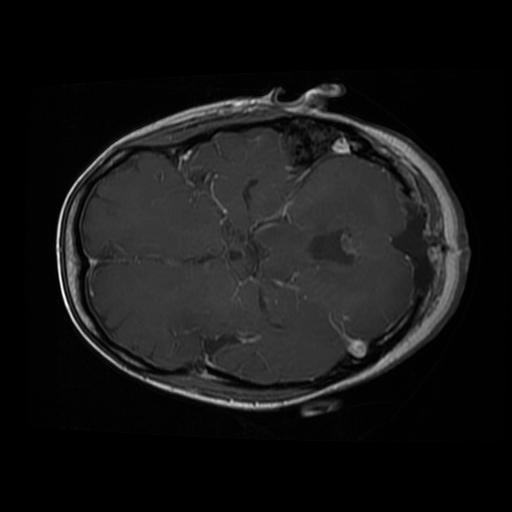glioma: (304, 224, 361, 269)
